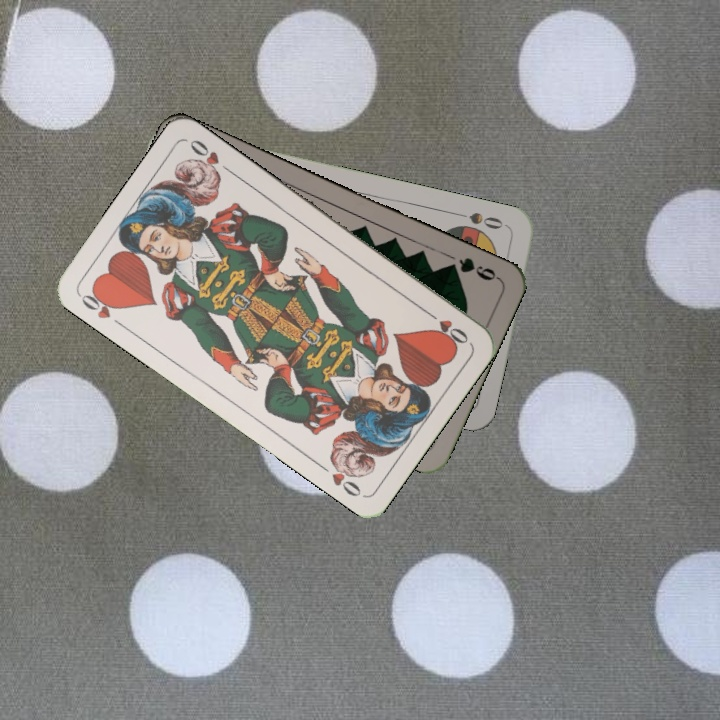G9: (442, 253, 502, 283)
HO: (76, 284, 128, 331), (421, 306, 471, 347)
SO: (453, 208, 511, 232)
